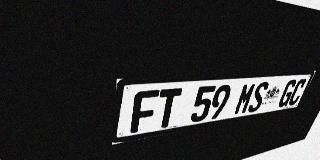5: (189, 85, 216, 123)
9: (207, 84, 233, 120)
C: (287, 79, 308, 106)
F: (130, 90, 160, 133)
G: (276, 79, 298, 108)
M: (233, 82, 257, 115)
S: (246, 81, 270, 113)
T: (154, 88, 182, 129)
